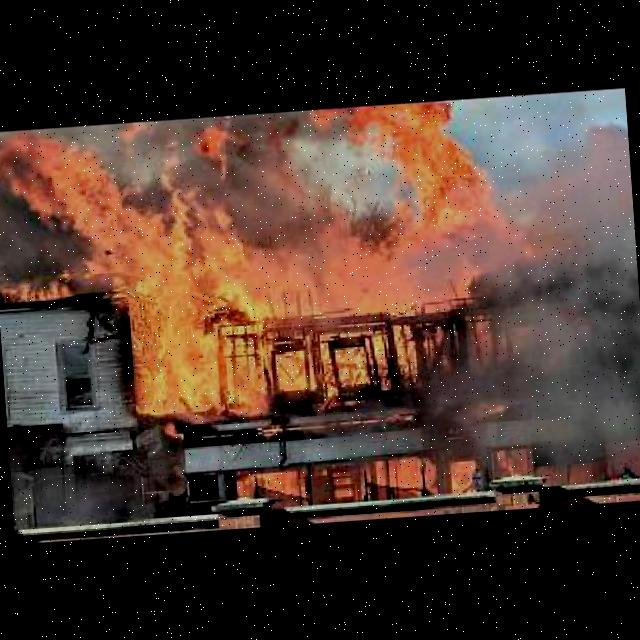fire: (96, 96, 522, 428), (0, 118, 124, 308)
